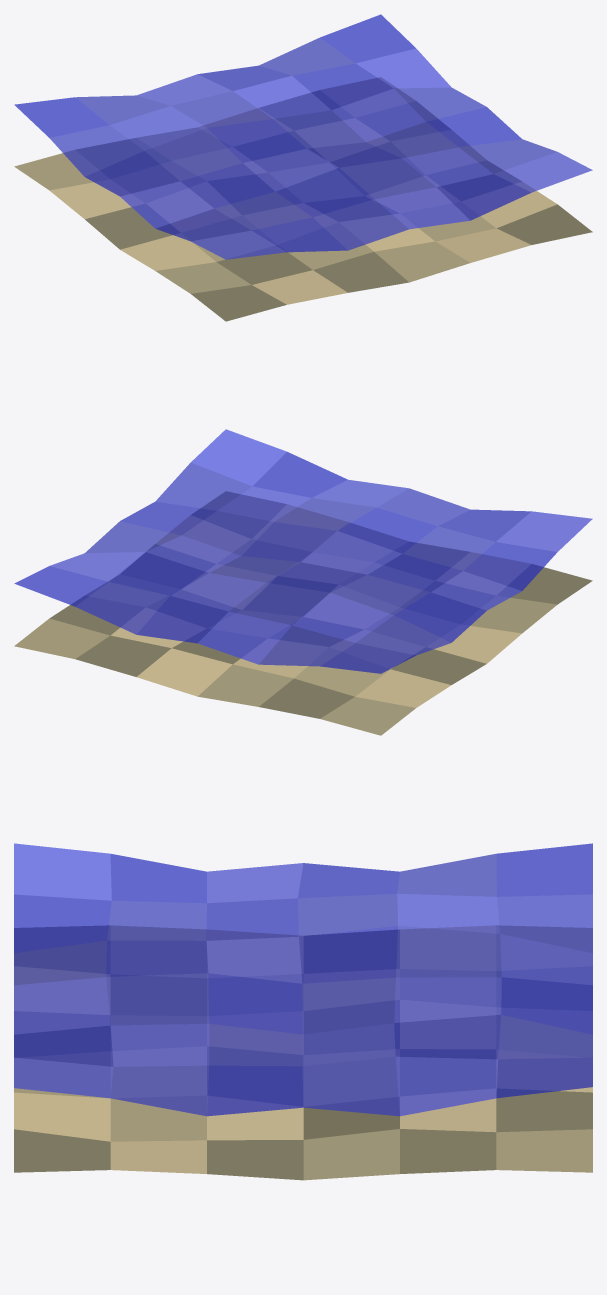
Rendered from WaterTile.fbx.
3 renders of one model, top to bottom at view 1: azimuth 30°, elevation 25°; view 2: azimuth 150°, elevation 25°; view 3: azimuth 270°, elevation 25°, orthographic. The views are drawn at different scales.
Visible parts, largest first — view 1: PathTile; view 2: PathTile; view 3: PathTile.
Boxes of the visible parts, x1,y1,x2,y2 form: PathTile: [14, 14, 592, 321]; PathTile: [14, 429, 592, 735]; PathTile: [14, 843, 592, 1180].
Bounding box in the file's own units: 100 × 36.87 × 100.
Materials: 2 (2 with a texture image).
